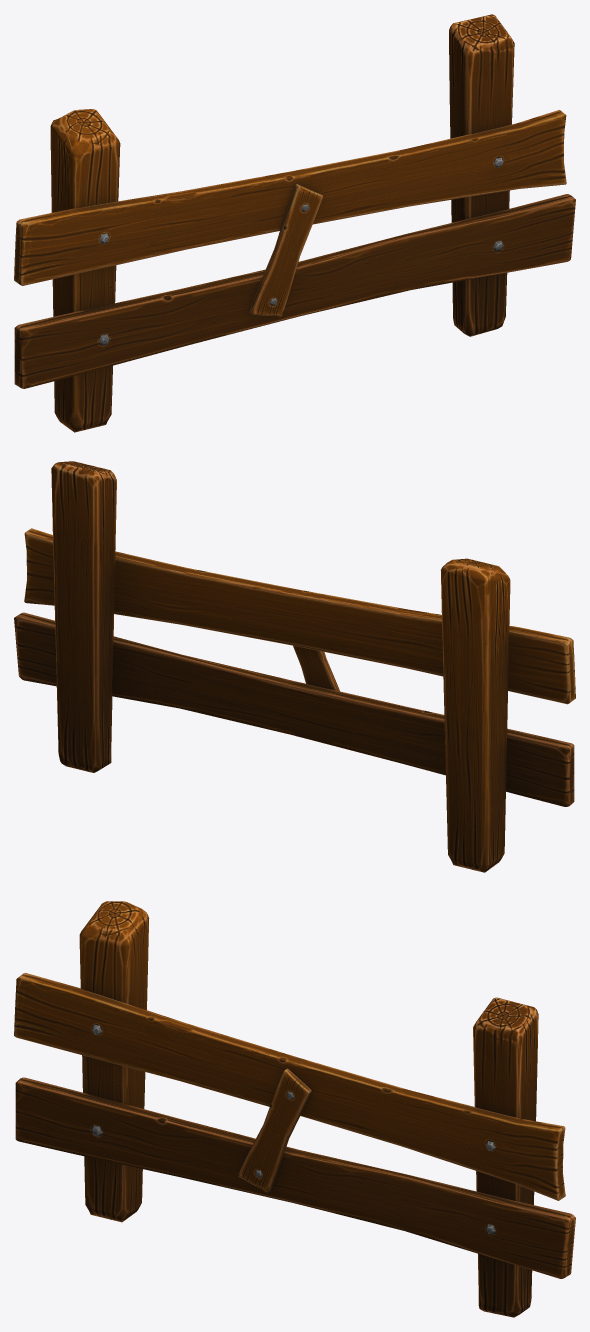
Rendered from HOS0710003.FBX.
The picture shows the model from 3 angles, top to bottom: view 1: azimuth 30°, elevation 25°; view 2: azimuth 150°, elevation 25°; view 3: azimuth 330°, elevation 25°; orthographic projection.
Parts seen in each view (by area): view 1: smHOS0710003; view 2: smHOS0710003; view 3: smHOS0710003.
Part boxes in pixels (x1,y1,x2,y2): smHOS0710003: [14, 14, 575, 432]; smHOS0710003: [14, 461, 575, 872]; smHOS0710003: [14, 901, 575, 1317].
Bounding box in the file's own units: 193 × 101 × 21.32.
1 material, 1 textured.
